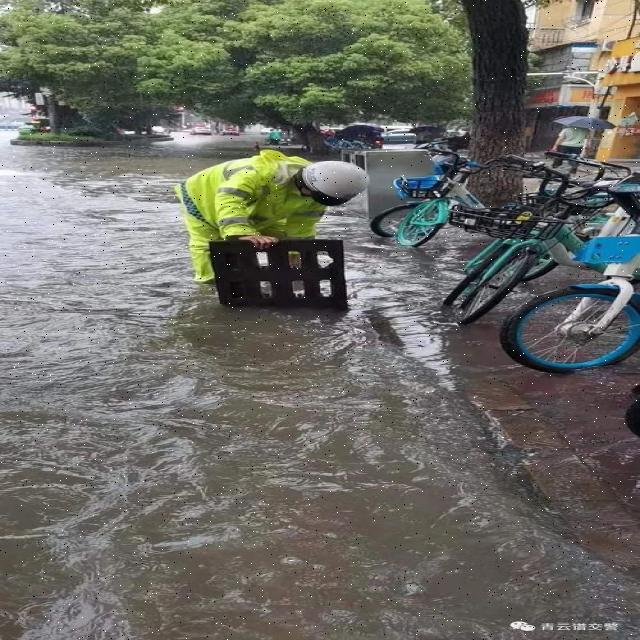rescuer: (167, 141, 371, 281)
